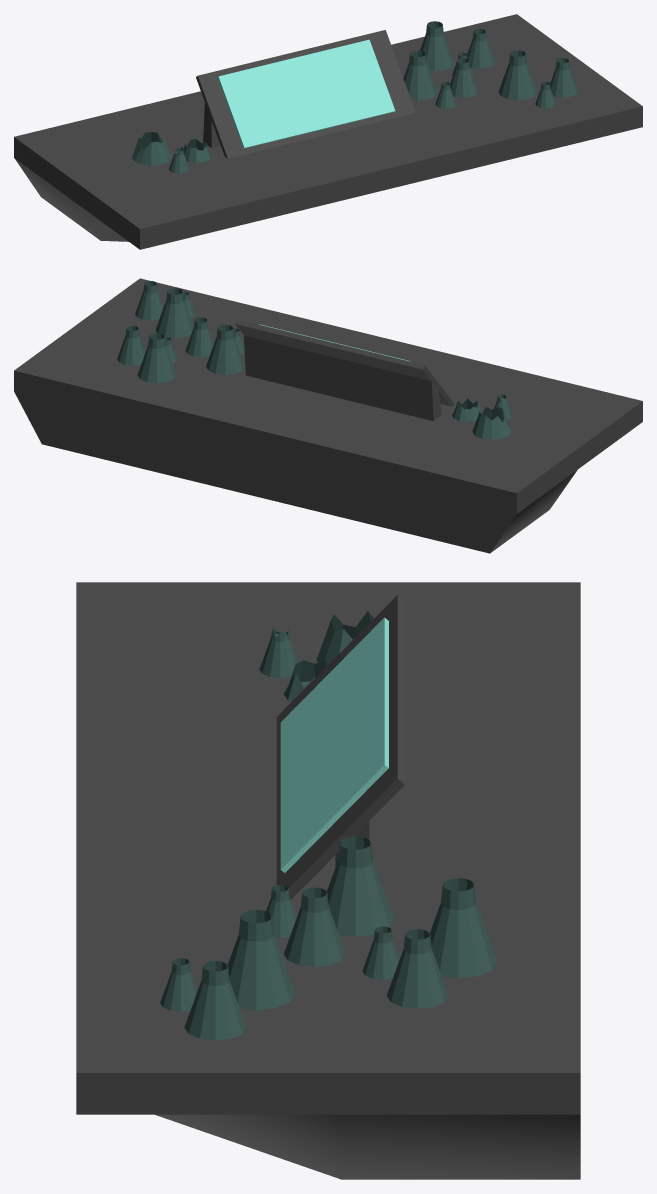
File: Sci-fi Table.fbx
The picture shows the model from 3 angles, top to bottom: view 1: azimuth 30°, elevation 25°; view 2: azimuth 150°, elevation 25°; view 3: azimuth 270°, elevation 25°; orthographic projection. The views are drawn at different scales.
Visible parts, largest first — view 1: pCube5; view 2: pCube5; view 3: pCube5.
Boxes of the visible parts, left/top/right/bottom form: pCube5: left=14, top=14, right=642, bottom=249; pCube5: left=14, top=278, right=642, bottom=553; pCube5: left=76, top=582, right=580, bottom=1179.
Bounding box in the file's own units: 6.98 × 1.7 × 3.03.
